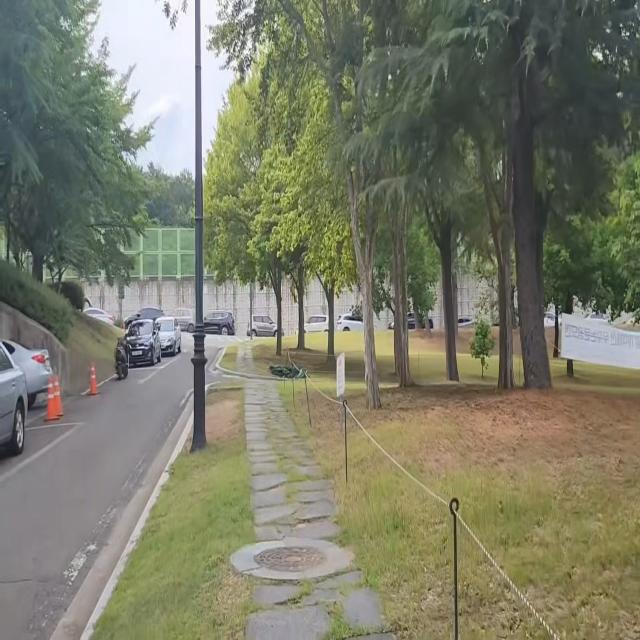obstacle: (188, 0, 211, 450), (0, 317, 69, 467), (108, 313, 188, 394)
road: (0, 336, 228, 640)
sidewalk: (242, 379, 406, 640), (232, 335, 257, 379)
